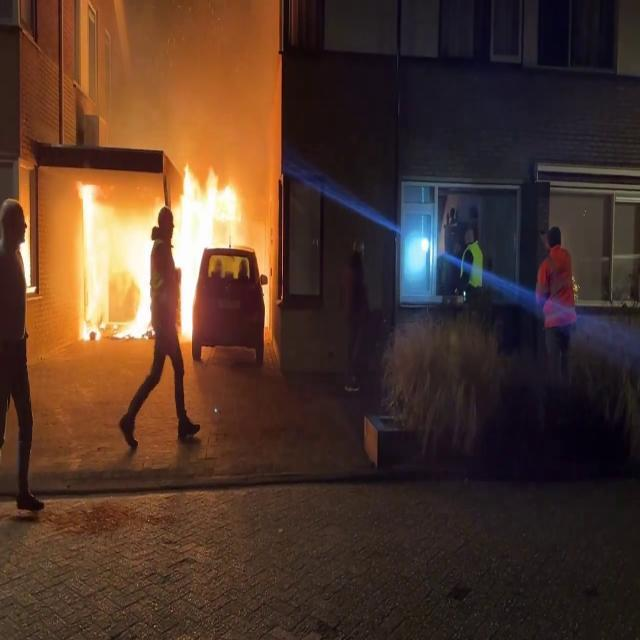Fire: (169, 154, 251, 339), (74, 176, 158, 344)
